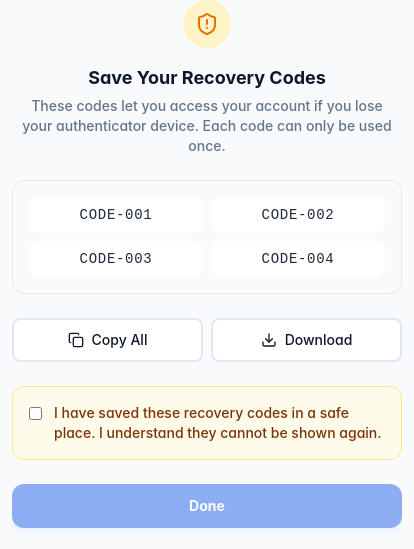
Test: RecoveryCodesDisplay › enables Done after checkbox confirmed
What coordinates should you click on to do the following:
click the checkbox
I would click on:
 (36, 414)
Its box is top-left (29, 407), bottom-right (42, 420).
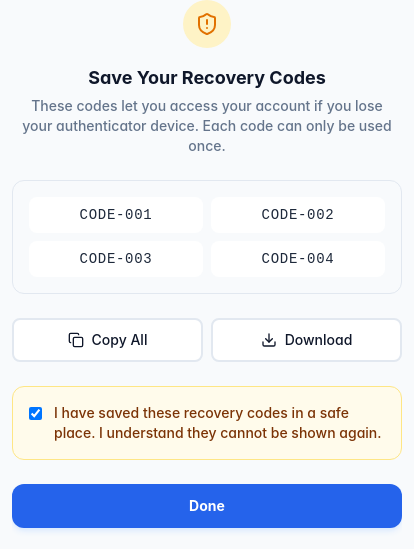
Check: the button "Done" is enabled, box top-left (12, 484), bottom-right (402, 528)
